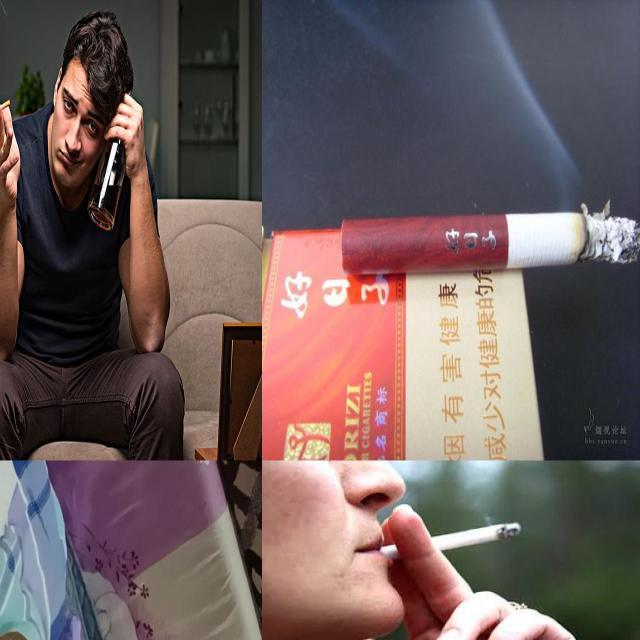smoking: (340, 212, 640, 274), (365, 522, 523, 563), (0, 97, 12, 128)
